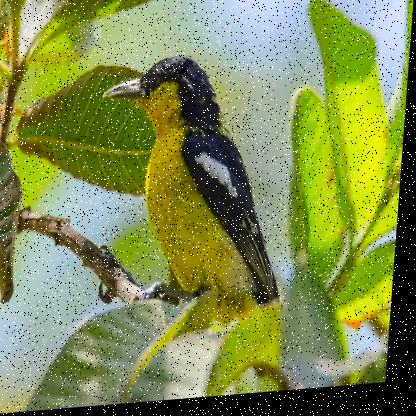Burung: (90, 52, 299, 320)
